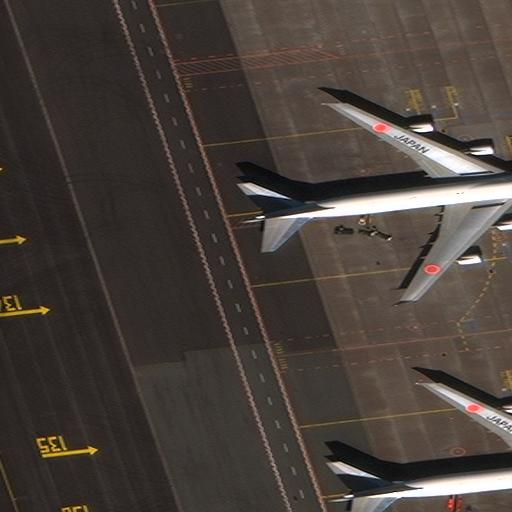Large Civil Transport: (235, 99, 512, 301), (331, 381, 512, 512)
